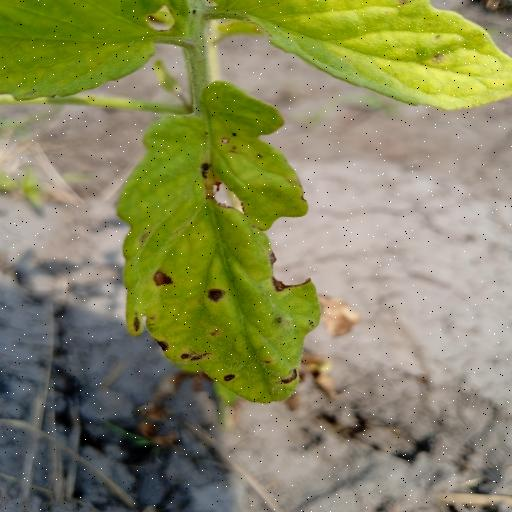Tomato_Brown_Spots: (115, 78, 328, 407), (202, 0, 511, 114), (0, 0, 177, 104)
